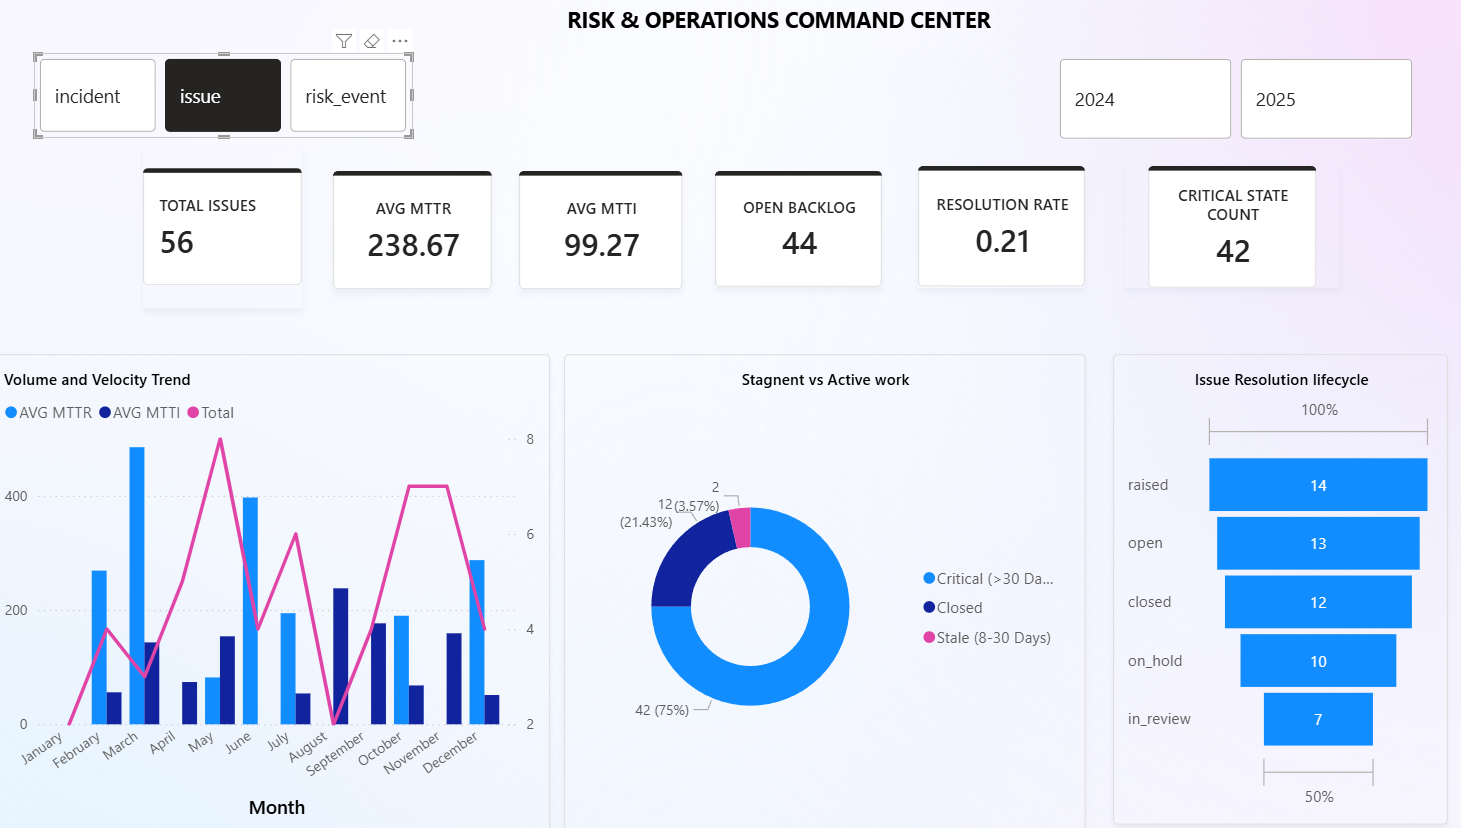

What the dashboard file says about the page in this screenshot:
{"tool":"powerbi","page":{"name":"OVERVIEW","canvas":[1280,720],"ordinal":0},"visuals":[{"type":"textbox","box":[493.4,0,376.1,46.6],"z":0},{"type":"cardVisual","title":"t","fields":{"Data":["Calendar.TOTAL ISSUES"]},"box":[132.5,126.3,137,141.5],"z":1000},{"type":"cardVisual","fields":{"Data":["Calendar.OPEN BACKLOG"]},"box":[626,148.7,144.2,100.3],"z":2000},{"type":"cardVisual","fields":{"Data":["Calendar.RESOLUTION RATE"]},"box":[801.5,144.2,144.2,104.8],"z":3000},{"type":"cardVisual","fields":{"Data":["Calendar.AVG MTTI"]},"box":[456.7,148.7,141.5,102.1],"z":4000},{"type":"cardVisual","fields":{"Data":["Calendar.CRITICAL STATE COUNT"]},"box":[979.7,144.2,185.4,105],"z":6000},{"type":"cardVisual","fields":{"Data":["Calendar.AVG MTTR"]},"box":[296.4,148.7,137,102.1],"z":7000},{"type":"lineClusteredColumnComboChart","title":"Volume and Velocity Trend","fields":{"Category":["fct_Issues.CreatedDate.Variation.Date Hierarchy.Month","fct_Issues.CreatedDate.Variation.Date Hierarchy.Day"],"Y2":["CountNonNull(fct_Issues.NaturalKey)"],"Y":["Calendar.AVG MTTR","Calendar.AVG MTTI"]},"box":[0,306.3,483.6,413.7],"z":8000},{"type":"funnel","title":"Issue Resolution lifecycle","fields":{"Category":["fct_Issues.CurrentStatus"],"Y":["Calendar.TOTAL ISSUES"]},"box":[969.9,306.3,289.3,405.7],"z":9000},{"type":"donutChart","title":"Stagnent vs Active work","fields":{"Category":["fct_Issues.AgeBucket"],"Y":["CountNonNull(fct_Issues.IsOpen)"]},"box":[496.1,306.3,449.6,413.7],"z":10000},{"type":"advancedSlicerVisual","fields":{"Values":["fct_Issues.Type"]},"box":[38.5,46.6,326.9,73.4],"z":12000},{"type":"advancedSlicerVisual","fields":{"Values":["fct_Issues.CreatedDate.Variation.Date Hierarchy.Year"]},"box":[918.8,46.6,315.2,79.7],"z":13000}]}

Visuals, with their boxes in screenshot pixels (x1, y1, x2, y2), scaled from the page's 1280x720 canvas onto the 1461x828 screenshot:
textbox: [left=563, top=0, right=992, bottom=54]
"t" cardVisual: [left=151, top=145, right=308, bottom=308]
cardVisual - Calendar.OPEN BACKLOG: [left=715, top=171, right=879, bottom=286]
cardVisual - Calendar.RESOLUTION RATE: [left=915, top=166, right=1079, bottom=286]
cardVisual - Calendar.AVG MTTI: [left=521, top=171, right=683, bottom=288]
cardVisual - Calendar.CRITICAL STATE COUNT: [left=1118, top=166, right=1330, bottom=287]
cardVisual - Calendar.AVG MTTR: [left=338, top=171, right=495, bottom=288]
"Volume and Velocity Trend" lineClusteredColumnComboChart: [left=0, top=352, right=552, bottom=827]
"Issue Resolution lifecycle" funnel: [left=1107, top=352, right=1437, bottom=819]
"Stagnent vs Active work" donutChart: [left=566, top=352, right=1079, bottom=827]
advancedSlicerVisual - fct_Issues.Type: [left=44, top=54, right=417, bottom=138]
advancedSlicerVisual - fct_Issues.CreatedDate.Variation.Date Hierarchy.Year: [left=1049, top=54, right=1408, bottom=145]
